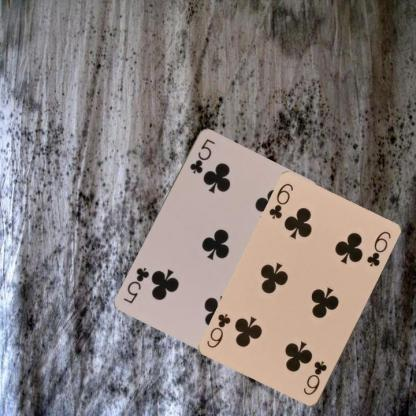5c: (187, 136, 217, 174)
6c: (300, 358, 329, 398), (266, 181, 295, 221)
